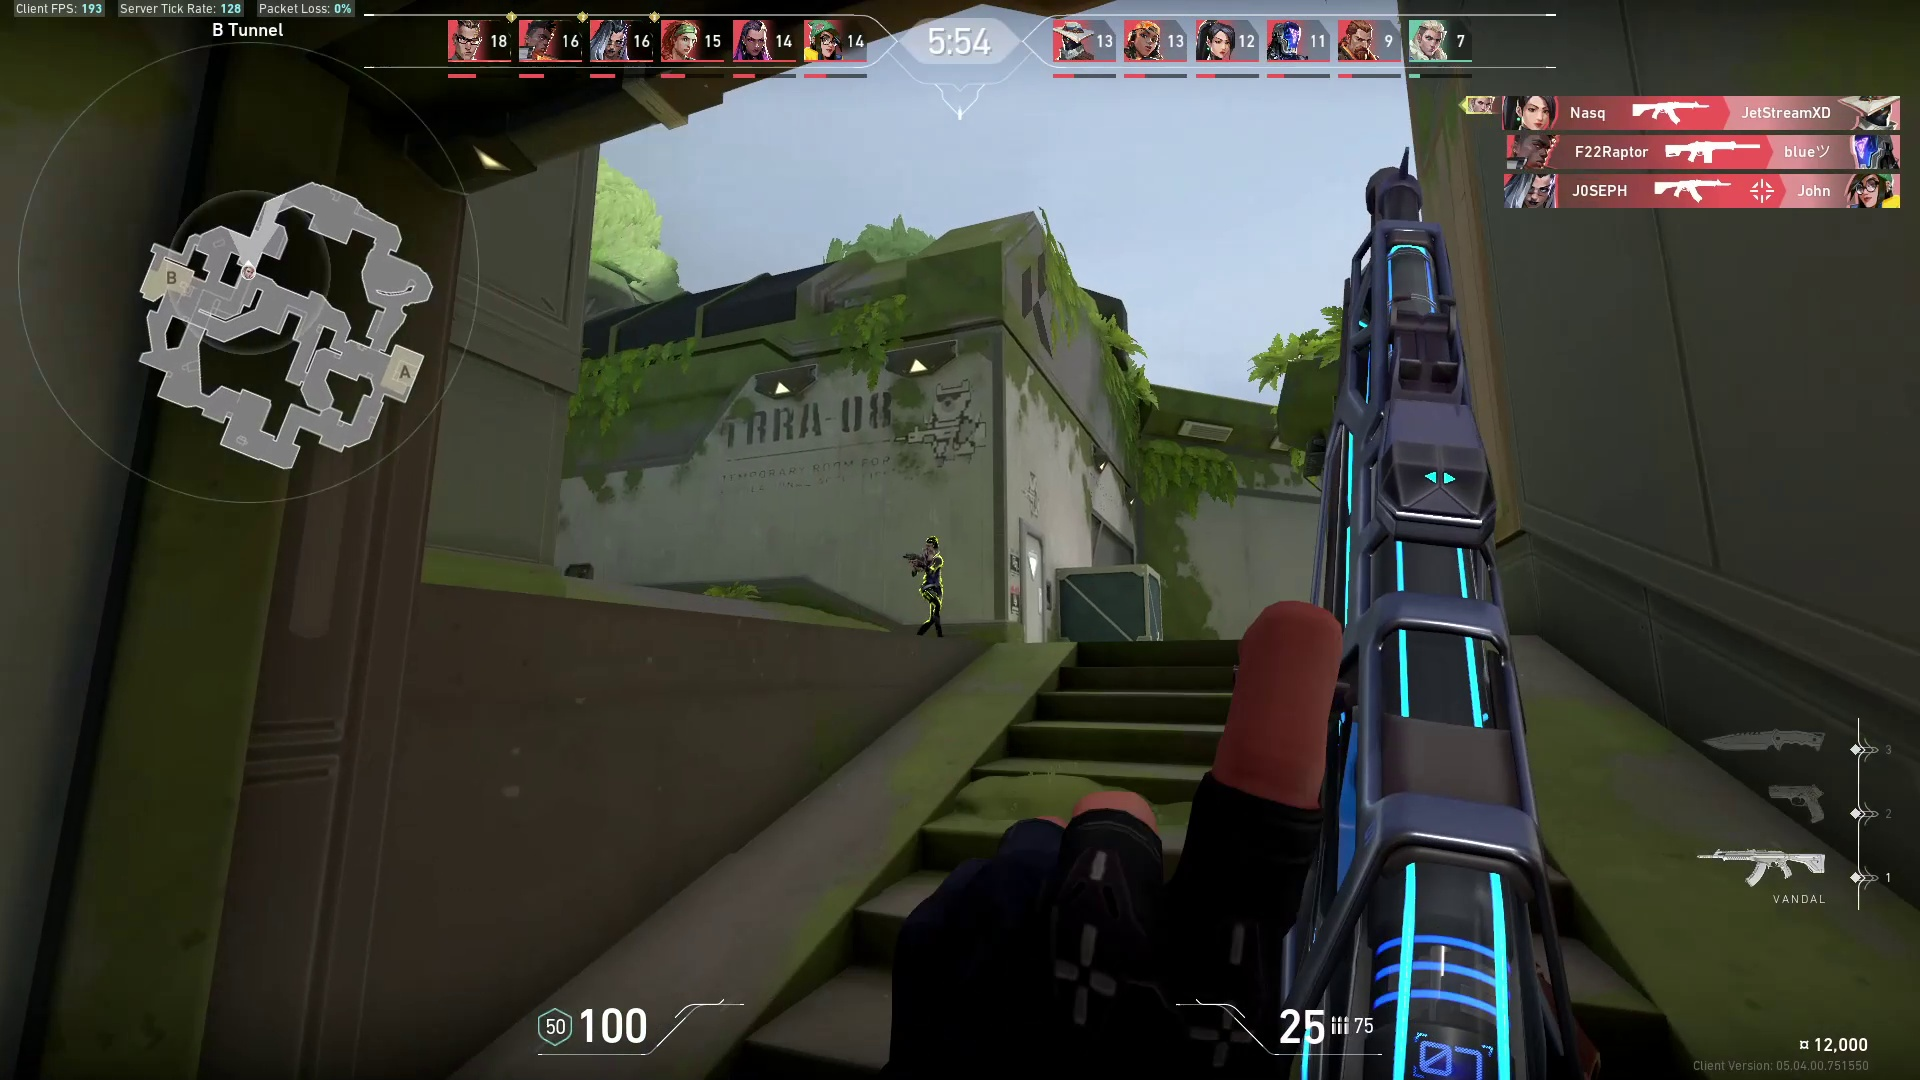enemy_body: (905, 550, 954, 640)
enemy_head: (915, 532, 945, 555)
